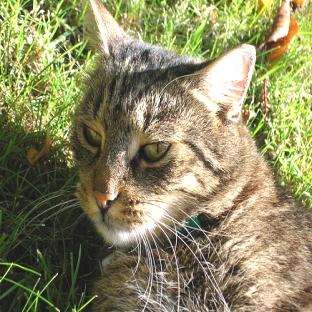Animal: (72, 0, 312, 311)
